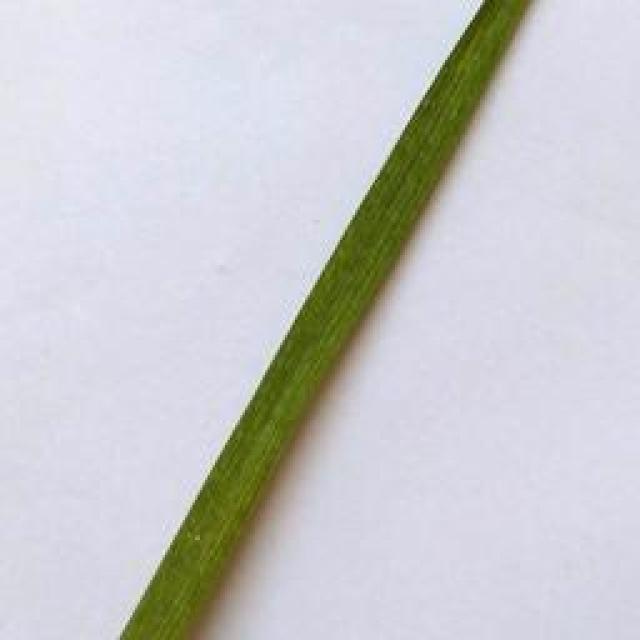Healthy-Plant: (123, 0, 530, 640)
